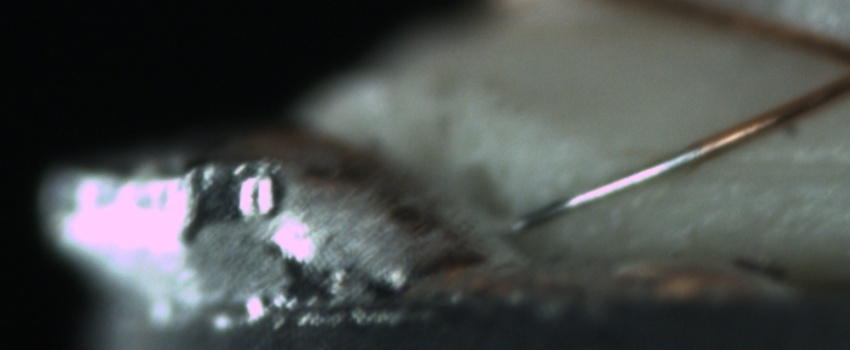DL: (697, 135, 850, 199)
TS: (508, 147, 699, 232)
